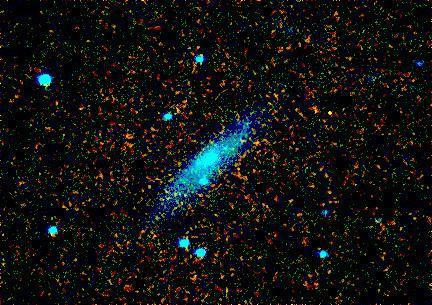star: (315, 96, 345, 126)
